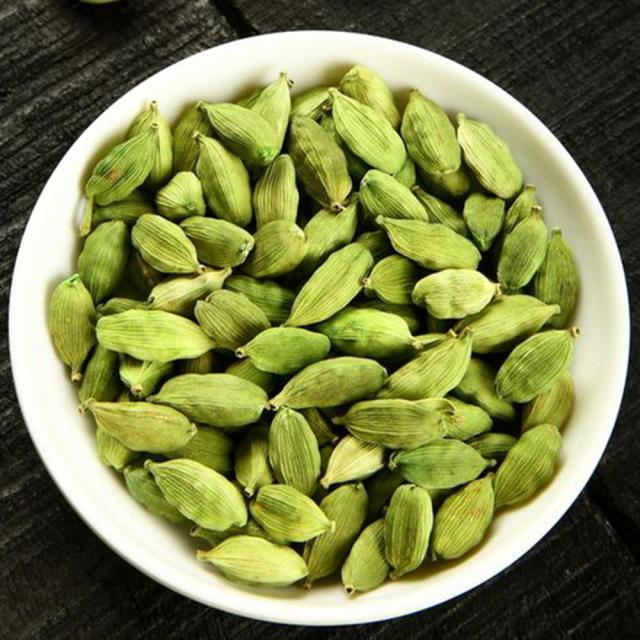Cardamom: (59, 64, 584, 597)
